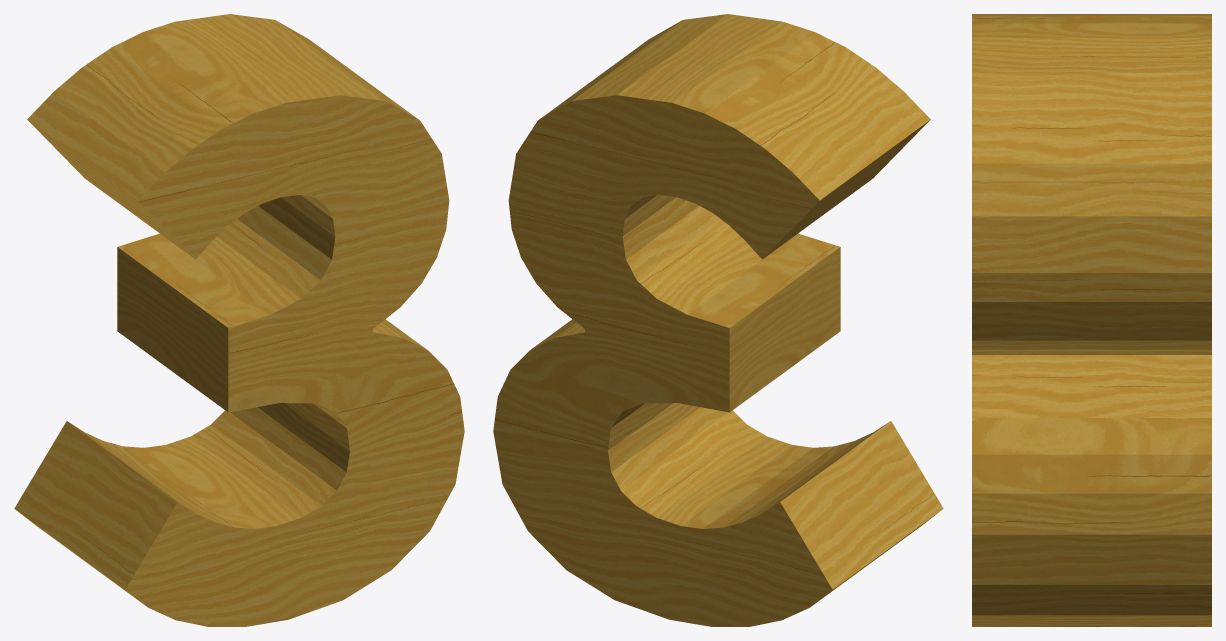
Rendered from MounTripElement_3.glb.
3 renders of one model, left to right at view 1: azimuth 30°, elevation 25°; view 2: azimuth 150°, elevation 25°; view 3: azimuth 270°, elevation 25°, orthographic. The views are drawn at different scales.
Parts seen in each view (by area): view 1: 3D 3 - 3; view 2: 3D 3 - 3; view 3: 3D 3 - 3.
Boxes of the visible parts, x1,y1,x2,y2 form: 3D 3 - 3: (14,14,464,626); 3D 3 - 3: (493,14,943,626); 3D 3 - 3: (972,14,1211,626).
Size of the model in its own units: 0.0265 by 0.0386 by 0.015.
1 material, 1 textured.
